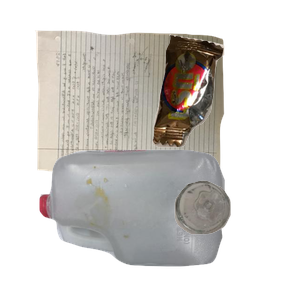glass: (172, 178, 300, 300)
paper: (32, 28, 249, 196)
plastic: (37, 147, 254, 300)
trash: (150, 32, 300, 172)
